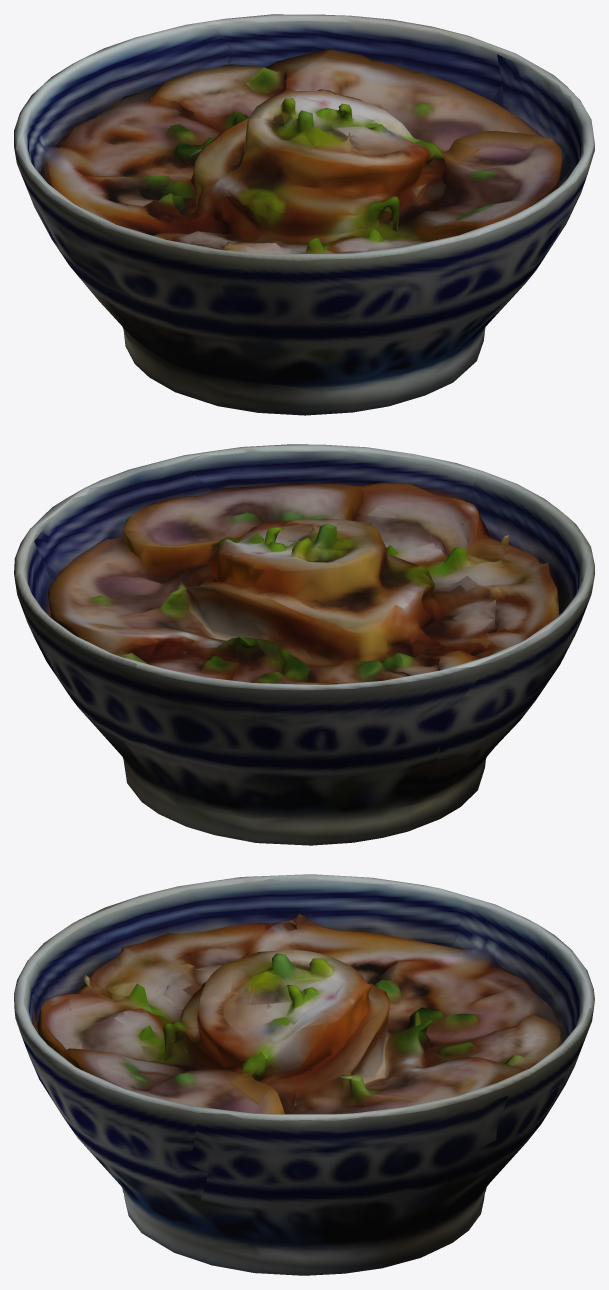
File: PorkBowl.fbx
The picture shows the model from 3 angles, top to bottom: view 1: azimuth 30°, elevation 25°; view 2: azimuth 150°, elevation 25°; view 3: azimuth 270°, elevation 25°; orthographic projection.
Parts seen in each view (by area): view 1: world; view 2: world; view 3: world.
Boxes of the visible parts, x1,y1,x2,y2 form: world: [14, 14, 594, 415]; world: [14, 444, 594, 845]; world: [14, 874, 594, 1275].
Size of the model in its own units: 0.9989 by 0.9994 by 0.4558.
Materials: 1 (1 with a texture image).
